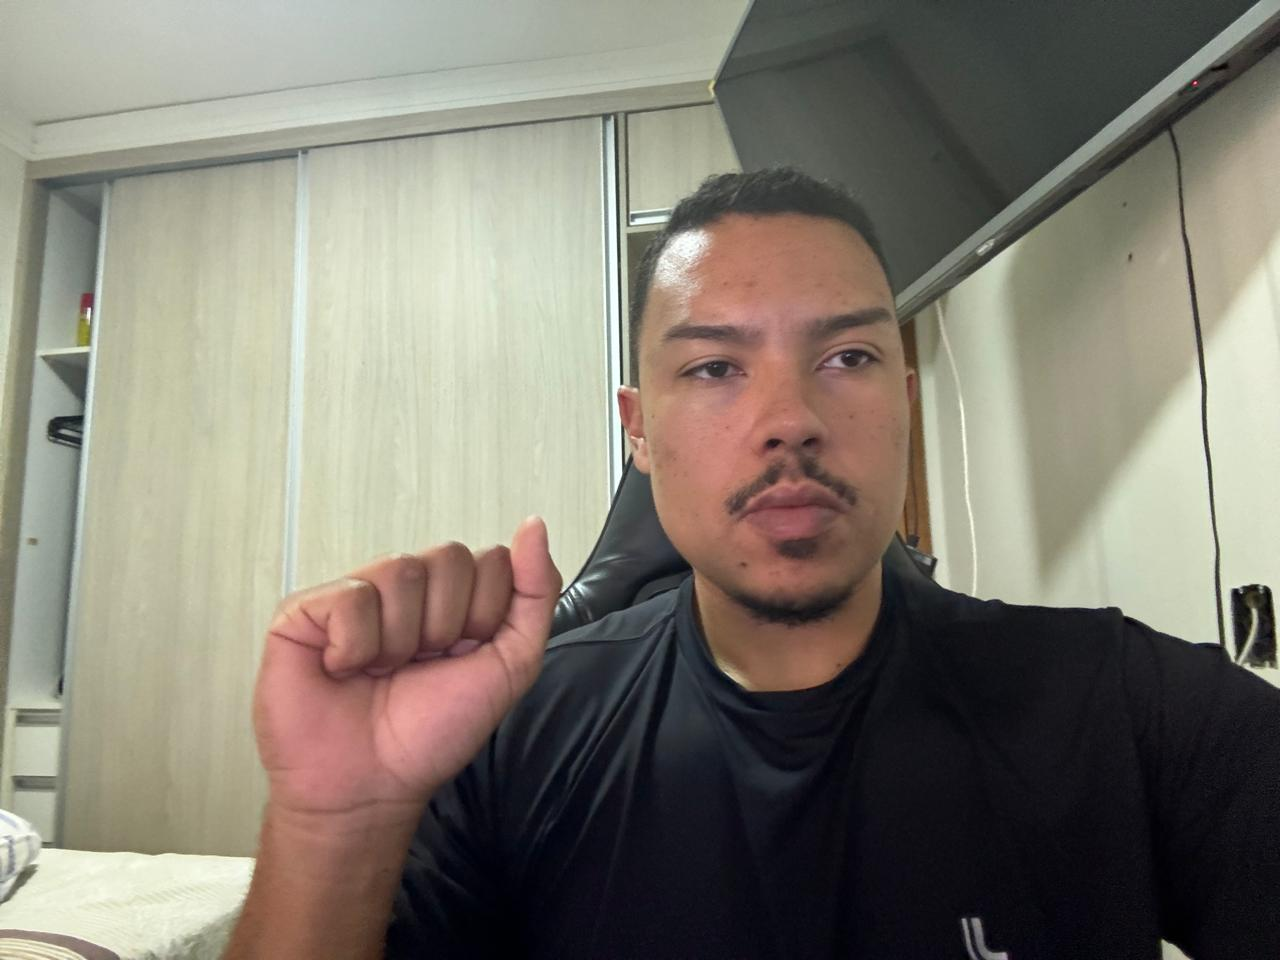a: (248, 514, 570, 814)
